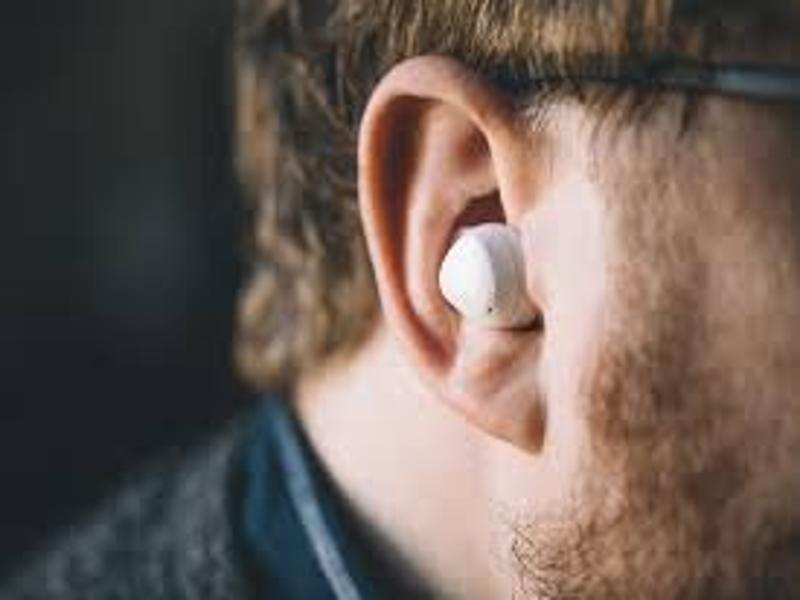headphone: (431, 219, 549, 332)
